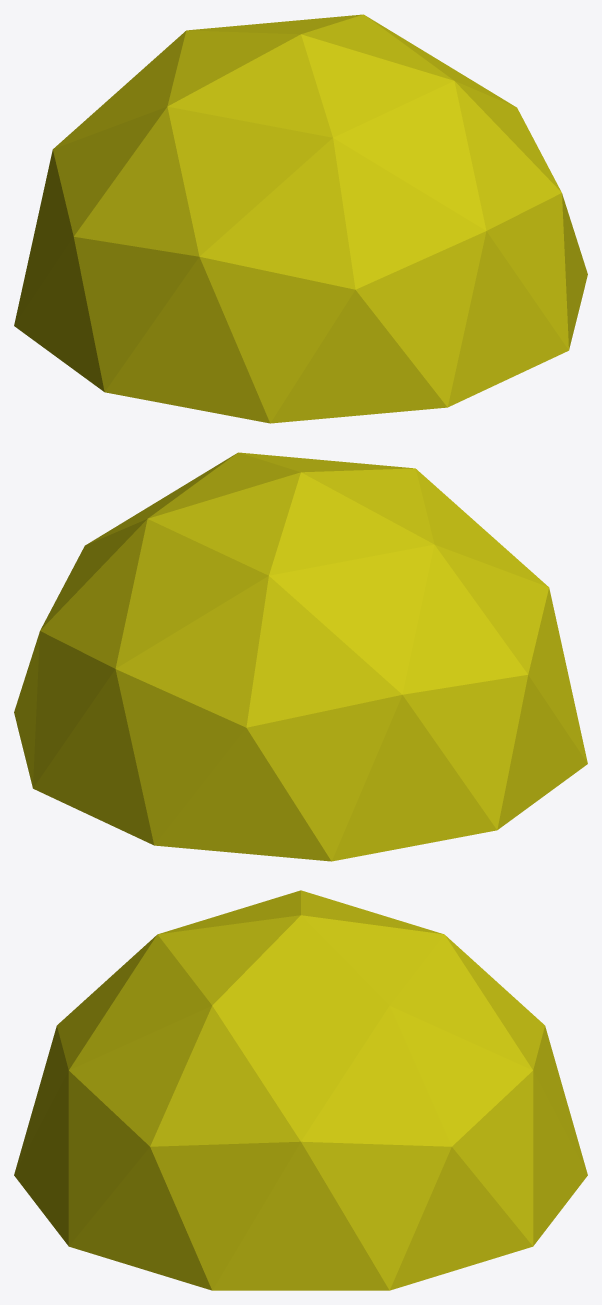
Rendered from upperJaw1.obj.
The picture shows the model from 3 angles, top to bottom: view 1: azimuth 30°, elevation 25°; view 2: azimuth 150°, elevation 25°; view 3: azimuth 270°, elevation 25°; orthographic projection. The views are drawn at different scales.
Visible parts, largest first — view 1: Icosphere.001; view 2: Icosphere.001; view 3: Icosphere.001.
Boxes of the visible parts, left/top/right/bottom form: Icosphere.001: left=14, top=14, right=587, bottom=423; Icosphere.001: left=14, top=452, right=587, bottom=861; Icosphere.001: left=14, top=890, right=587, bottom=1290.
Bounding box in the file's own units: 1.24 × 0.65 × 1.3.
